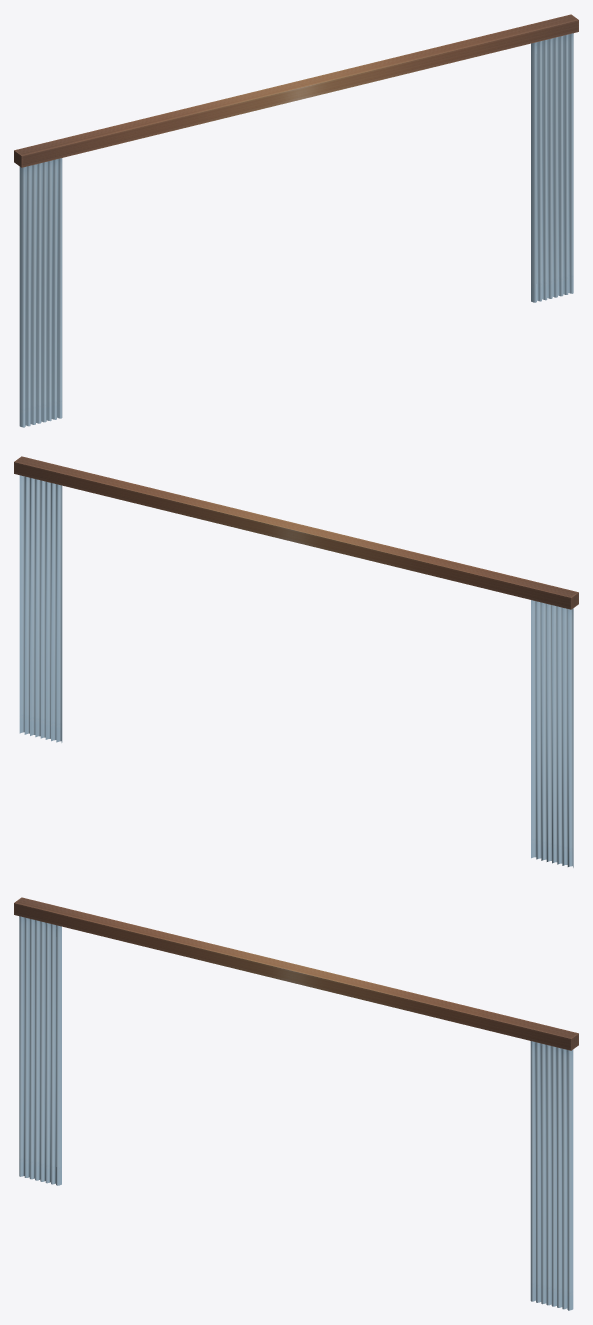
Rendered from KR_Curtain_01_01.fbx.
The picture shows the model from 3 angles, top to bottom: view 1: azimuth 30°, elevation 25°; view 2: azimuth 150°, elevation 25°; view 3: azimuth 330°, elevation 25°; orthographic projection.
Visible parts, largest first — view 1: curtain_L, curtain_rail, curtain_R; view 2: curtain_R, curtain_rail, curtain_L; view 3: curtain_R, curtain_rail, curtain_L.
Part boxes in pixels (x1=…): curtain_L: x1=19, y1=158, x2=62, y2=427; curtain_rail: x1=14, y1=14, x2=578, y2=167; curtain_R: x1=531, y1=33, x2=573, y2=302; curtain_R: x1=19, y1=475, x2=62, y2=742; curtain_rail: x1=14, y1=456, x2=578, y2=609; curtain_L: x1=531, y1=600, x2=573, y2=867; curtain_R: x1=530, y1=1041, x2=573, y2=1310; curtain_rail: x1=14, y1=897, x2=578, y2=1050; curtain_L: x1=19, y1=916, x2=61, y2=1185.
Size of the model in its own units: 385 by 181 by 9.2.
